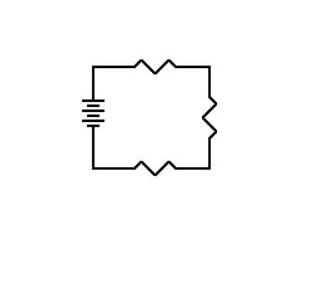resistor: (115, 148, 184, 192), (113, 50, 187, 90), (188, 86, 228, 152)
